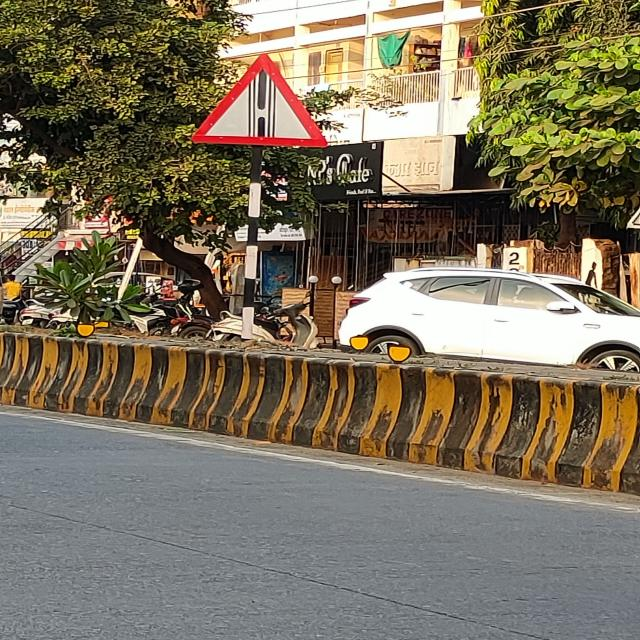GAP_IN_MEDIAN: (192, 51, 330, 149)
